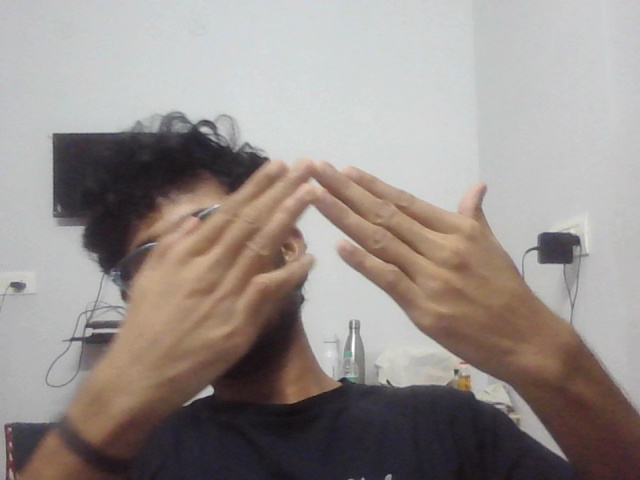Thanks: (79, 125, 565, 434)
